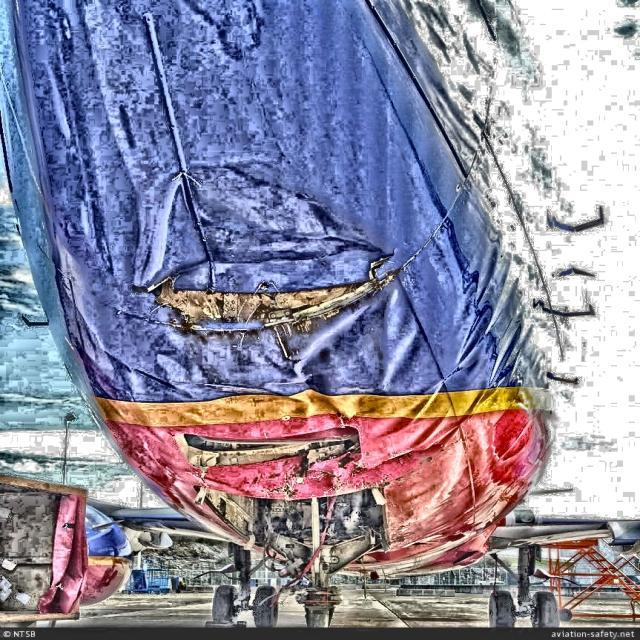crack: (359, 246, 405, 281)
dent: (146, 173, 381, 289), (304, 308, 384, 373), (392, 333, 429, 382)
